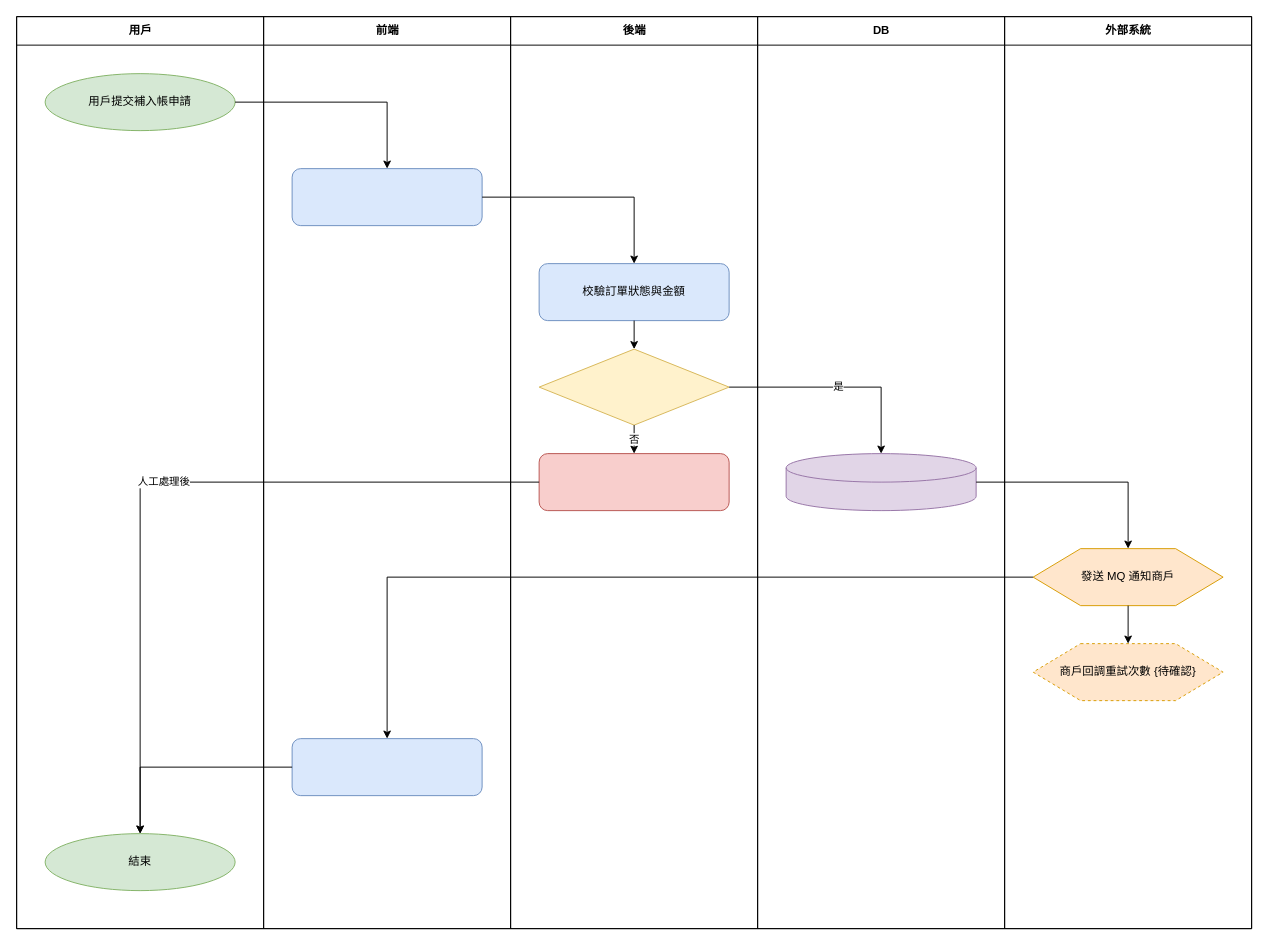
Some shapes in this 1268 by 945 pixel diagram are drawn without their labels. The centre of each missing label's shape, as x and y in pixels:
回顯入帳成功: [386,767]
填寫金額與憑證，送出 API: [386,197]
寫入入帳紀錄: [880,482]
轉人工審核: [633,482]
金額是否相符: [633,386]
